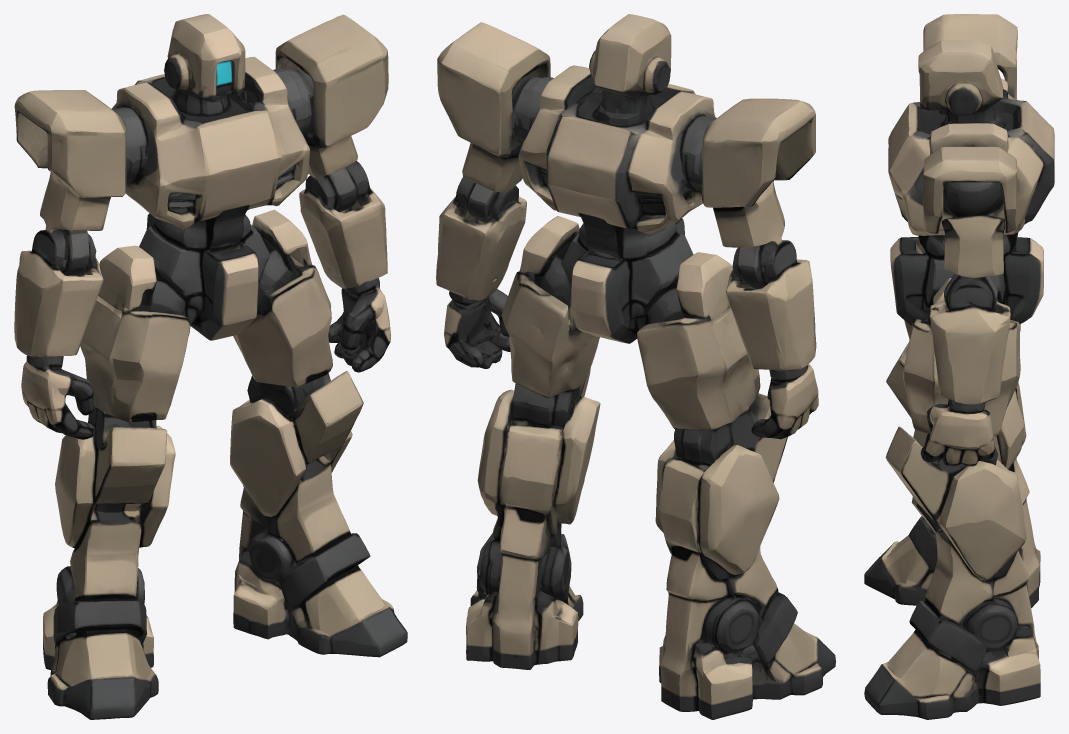
File: medium1.glb
3 renders of one model, left to right at view 1: azimuth 30°, elevation 25°; view 2: azimuth 150°, elevation 25°; view 3: azimuth 270°, elevation 25°, orthographic. The views are drawn at different scales.
Parts seen in each view (by area): view 1: geometry_0; view 2: geometry_0; view 3: geometry_0.
Boxes of the visible parts, <box> form: geometry_0: <box>14,14,407,719</box>; geometry_0: <box>436,14,835,719</box>; geometry_0: <box>864,14,1054,719</box>.
Bounding box in the file's own units: 0.5945 × 1 × 0.2897.
Materials: 1 (1 with a texture image).
